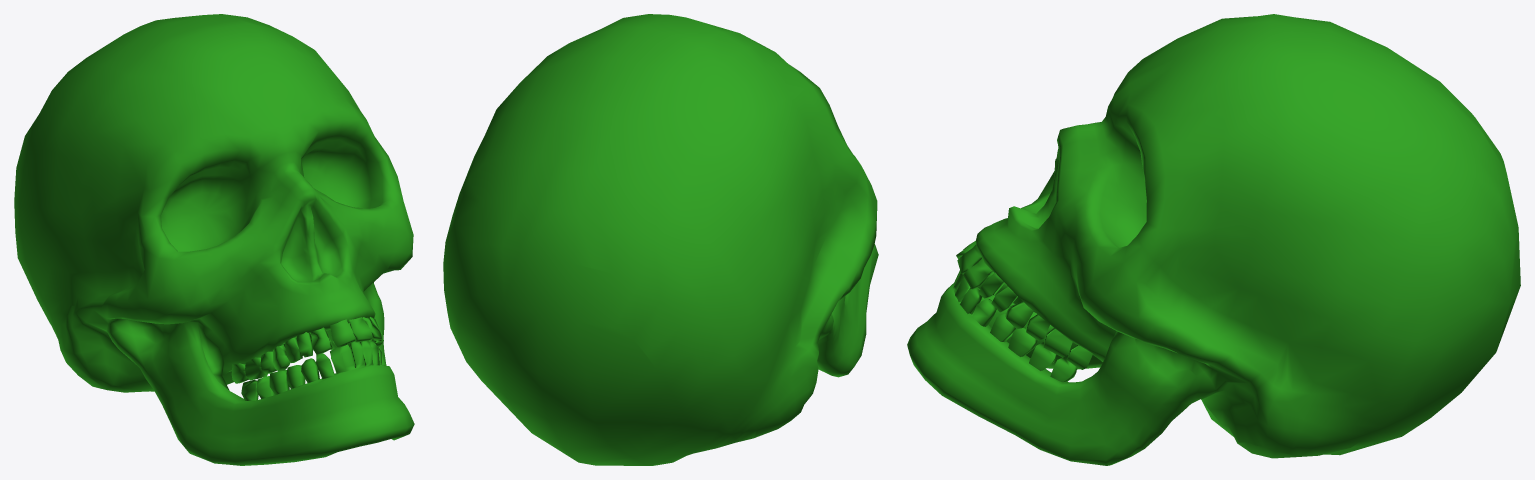
Rendered from Mad Race_Crossbow_Skull.fbx.
The picture shows the model from 3 angles, left to right: view 1: azimuth 30°, elevation 25°; view 2: azimuth 150°, elevation 25°; view 3: azimuth 270°, elevation 25°; orthographic projection. The views are drawn at different scales.
Visible parts, largest first — view 1: s.0094; view 2: s.0094; view 3: s.0094.
Part boxes in pixels (box(x1,y1,x2,y2)): s.0094: box(14, 14, 414, 465); s.0094: box(443, 14, 878, 465); s.0094: box(907, 14, 1520, 465).
Size of the model in its own units: 8.86 by 10.87 by 14.6.
